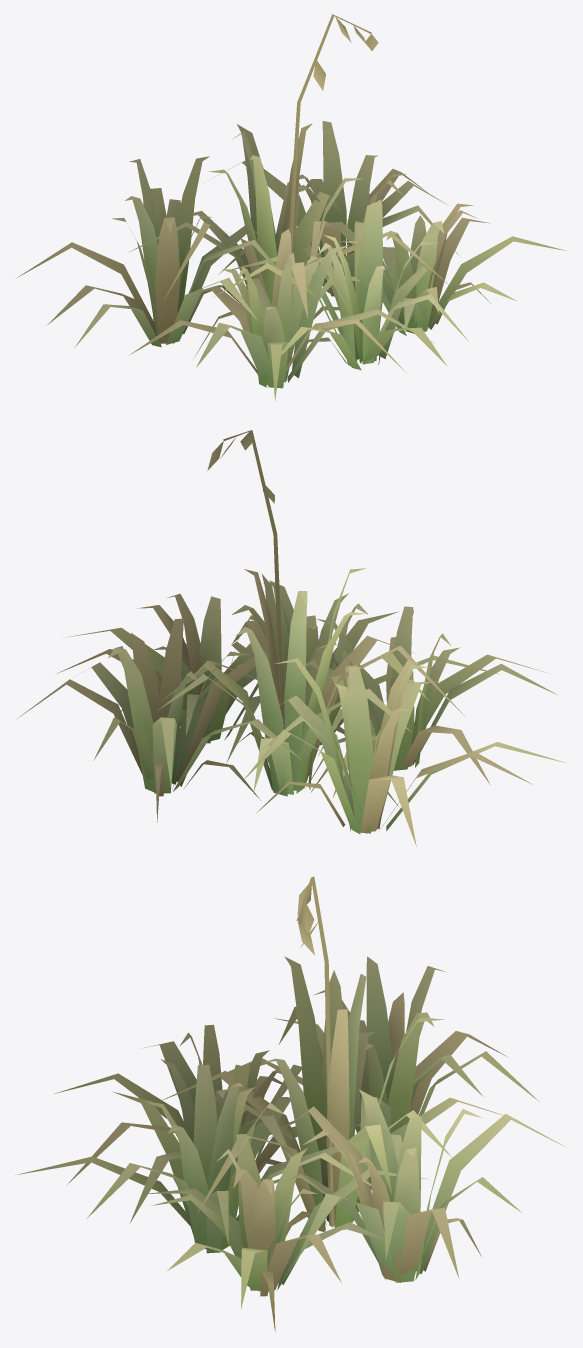
Rendered from deco-beachgrass-v3.glb.
3 renders of one model, top to bottom at view 1: azimuth 30°, elevation 25°; view 2: azimuth 150°, elevation 25°; view 3: azimuth 270°, elevation 25°, orthographic. The views are drawn at different scales.
Parts seen in each view (by area): view 1: 0_beachgrass; view 2: 0_beachgrass; view 3: 0_beachgrass.
Boxes of the visible parts, x1,y1,x2,y2 form: 0_beachgrass: [17, 14, 566, 401]; 0_beachgrass: [17, 430, 566, 846]; 0_beachgrass: [15, 876, 564, 1331].
Size of the model in its own units: 1.59 by 0.9938 by 1.34.
